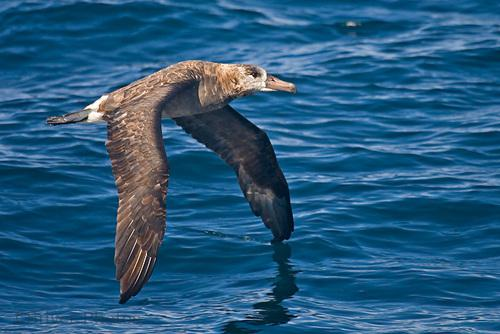001.Black_footed_Albatross: (47, 58, 296, 306)
